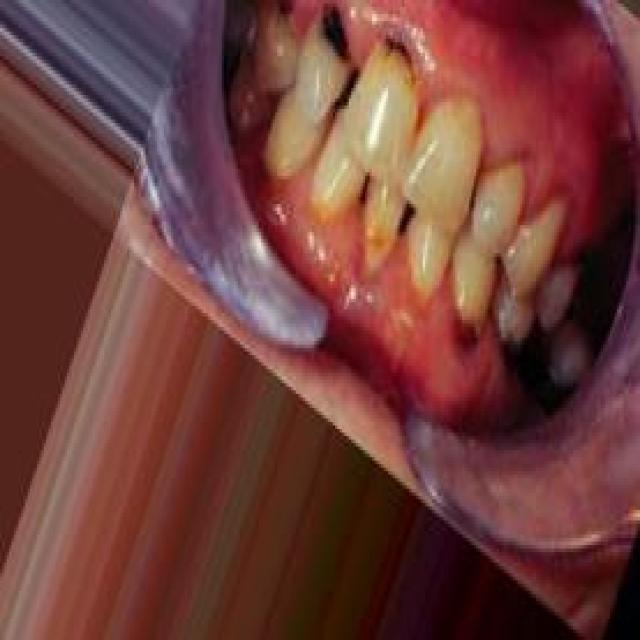caries: (308, 0, 362, 79), (379, 22, 424, 96), (448, 299, 488, 371)
